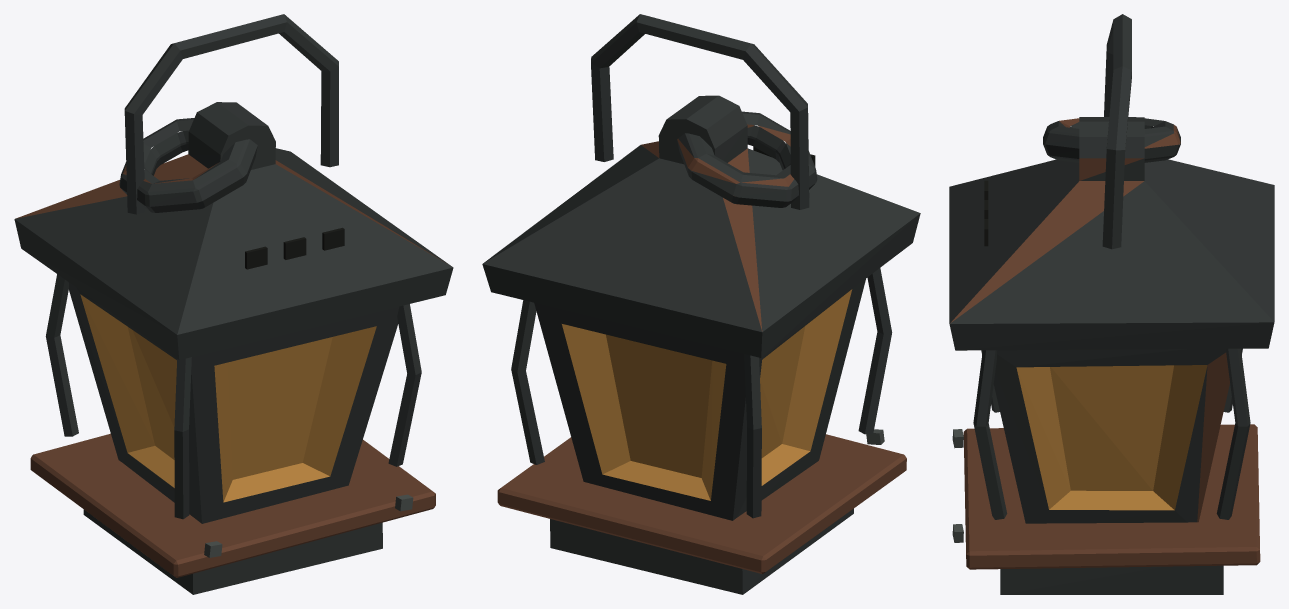
File: lantern-standing.glb
3 views of the same model, side by side, from view 1: azimuth 30°, elevation 25°; view 2: azimuth 150°, elevation 25°; view 3: azimuth 270°, elevation 25° (orthographic).
Parts seen in each view (by area): view 1: Iron, Glass, Stone; view 2: Iron, Glass; view 3: Iron, Glass.
Boxes of the visible parts, bbox=[...] form: Iron: bbox=[14, 14, 453, 594]; Glass: bbox=[80, 294, 376, 502]; Stone: bbox=[245, 227, 344, 269]; Iron: bbox=[482, 14, 920, 594]; Glass: bbox=[562, 289, 852, 500]; Iron: bbox=[949, 14, 1274, 594]; Glass: bbox=[1016, 365, 1207, 510].
Bounding box in the file's own units: 0.2461 × 0.4206 × 0.2432.
